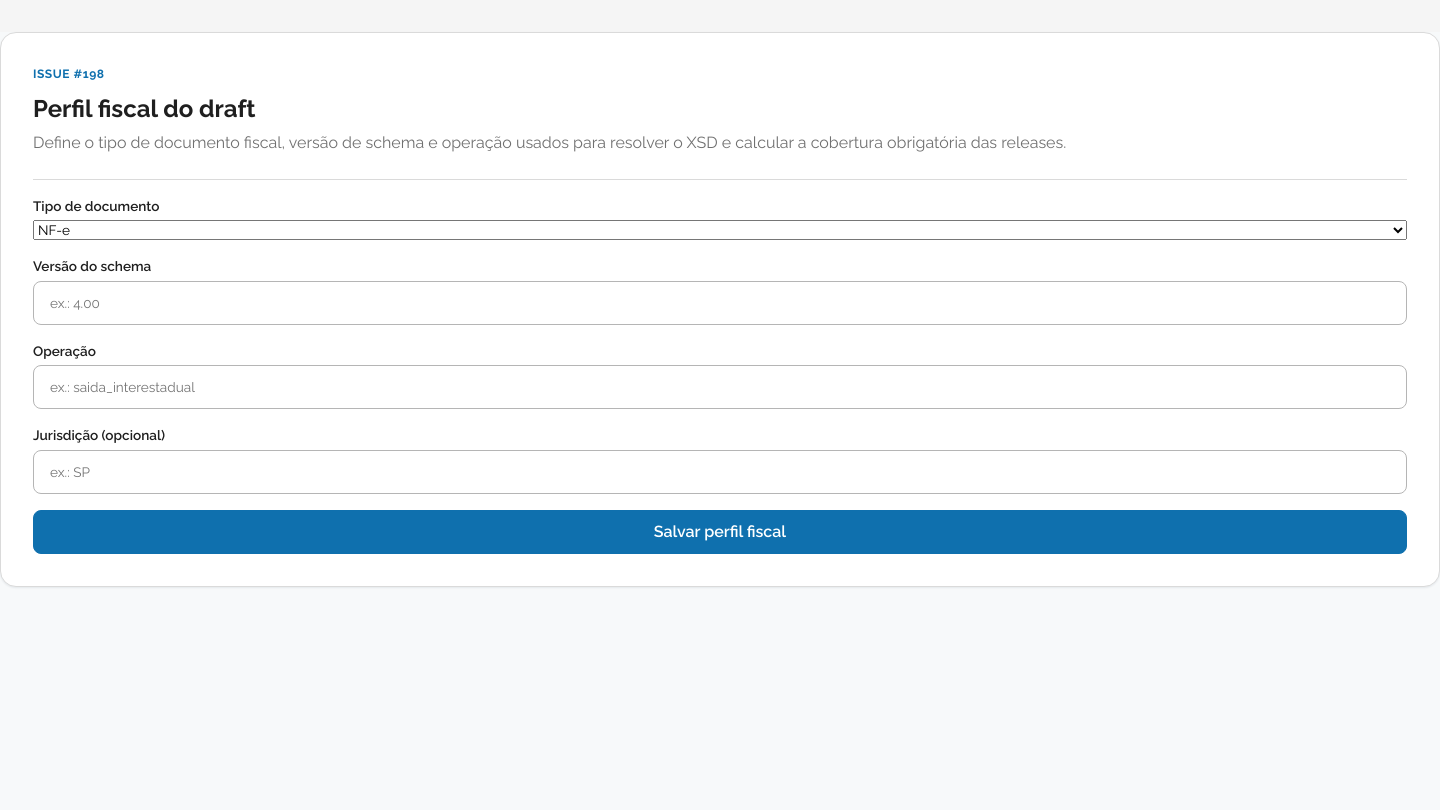
Test case: MappingFiscalProfilePanel › salva o perfil fiscal e propaga o draft atualizado
Type "4.00" into the field labelled "Versão do schema" at (720, 303), box [33,281,1407,325]
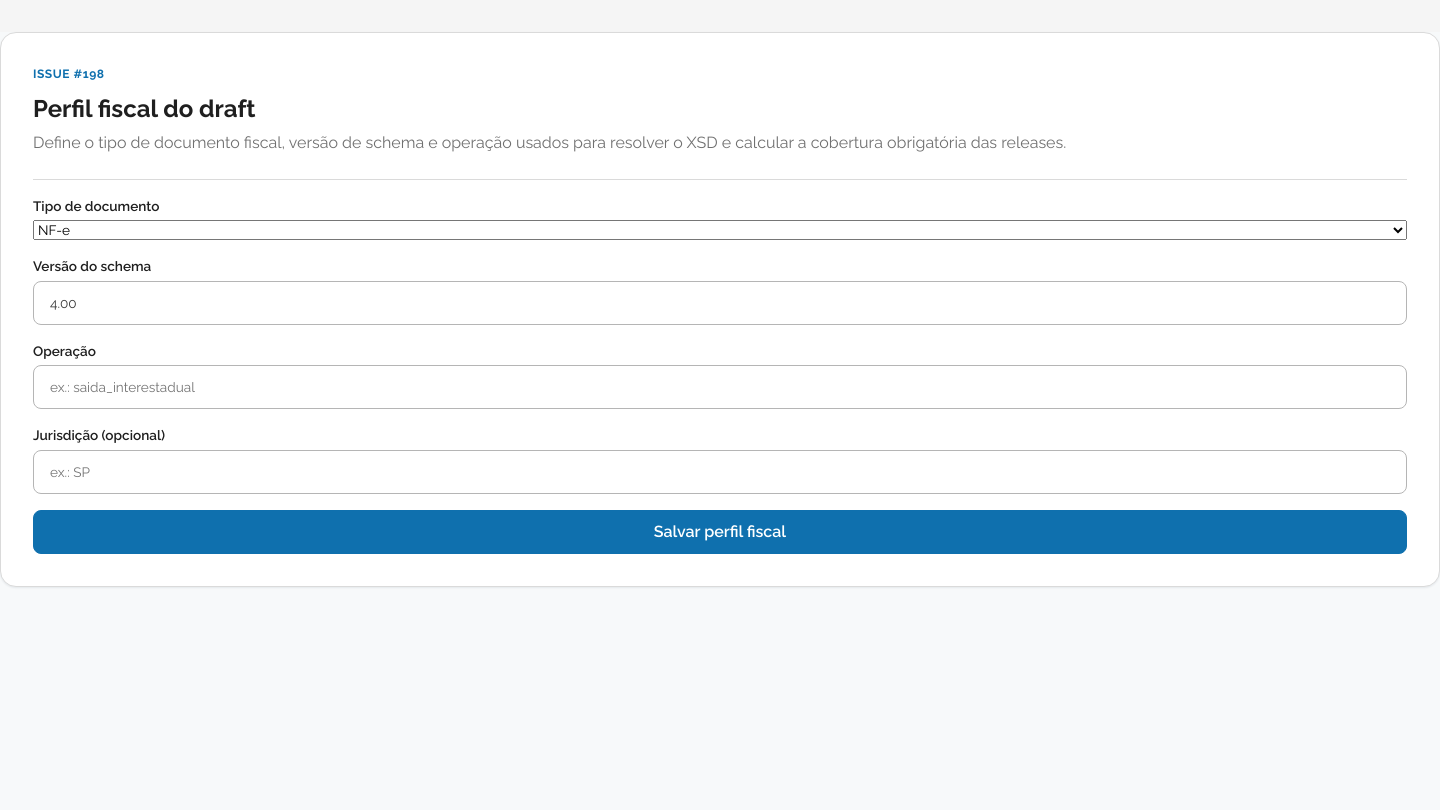
Type "saida" into the field labelled "Operação" at (720, 387), box [33,365,1407,409]
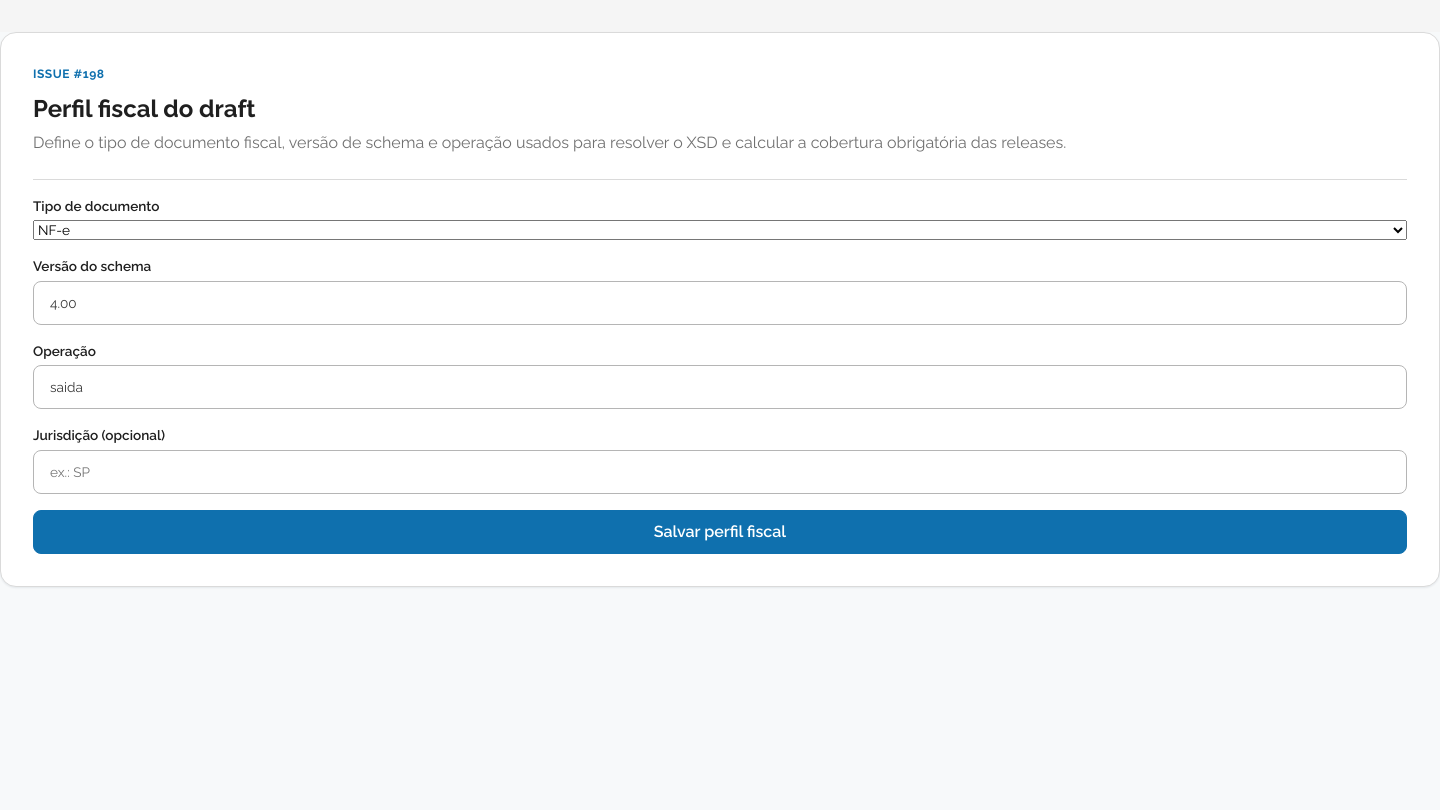
Click the button "Salvar perfil fiscal" at (720, 532), box [33,510,1407,554]
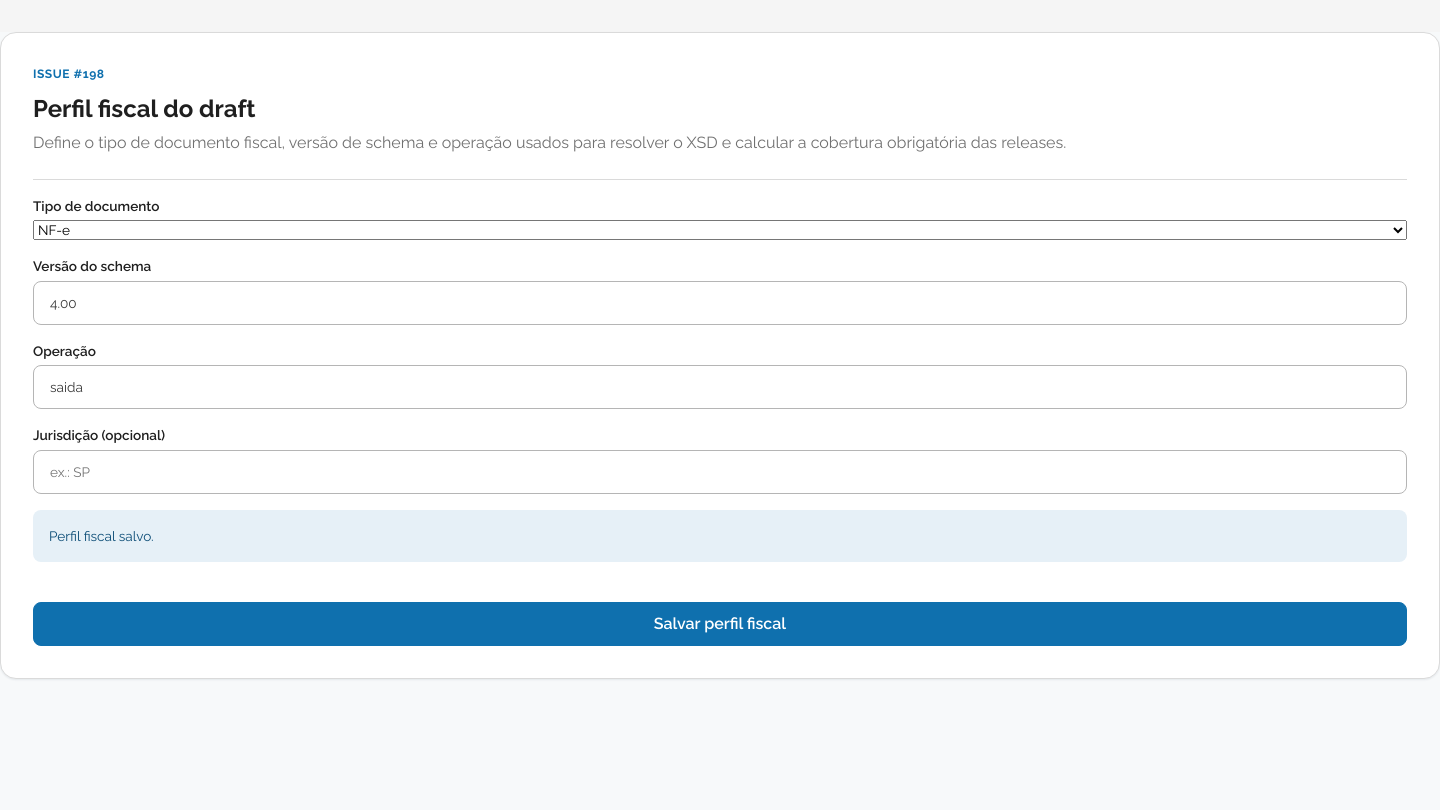
Expected: the text "Perfil fiscal salvo." is shown, [33,510,1407,562]
